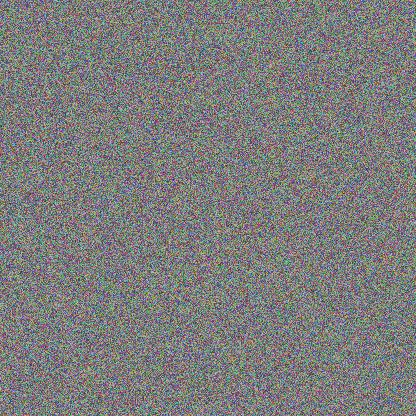occupied: (71, 60, 117, 173), (65, 147, 115, 230)
